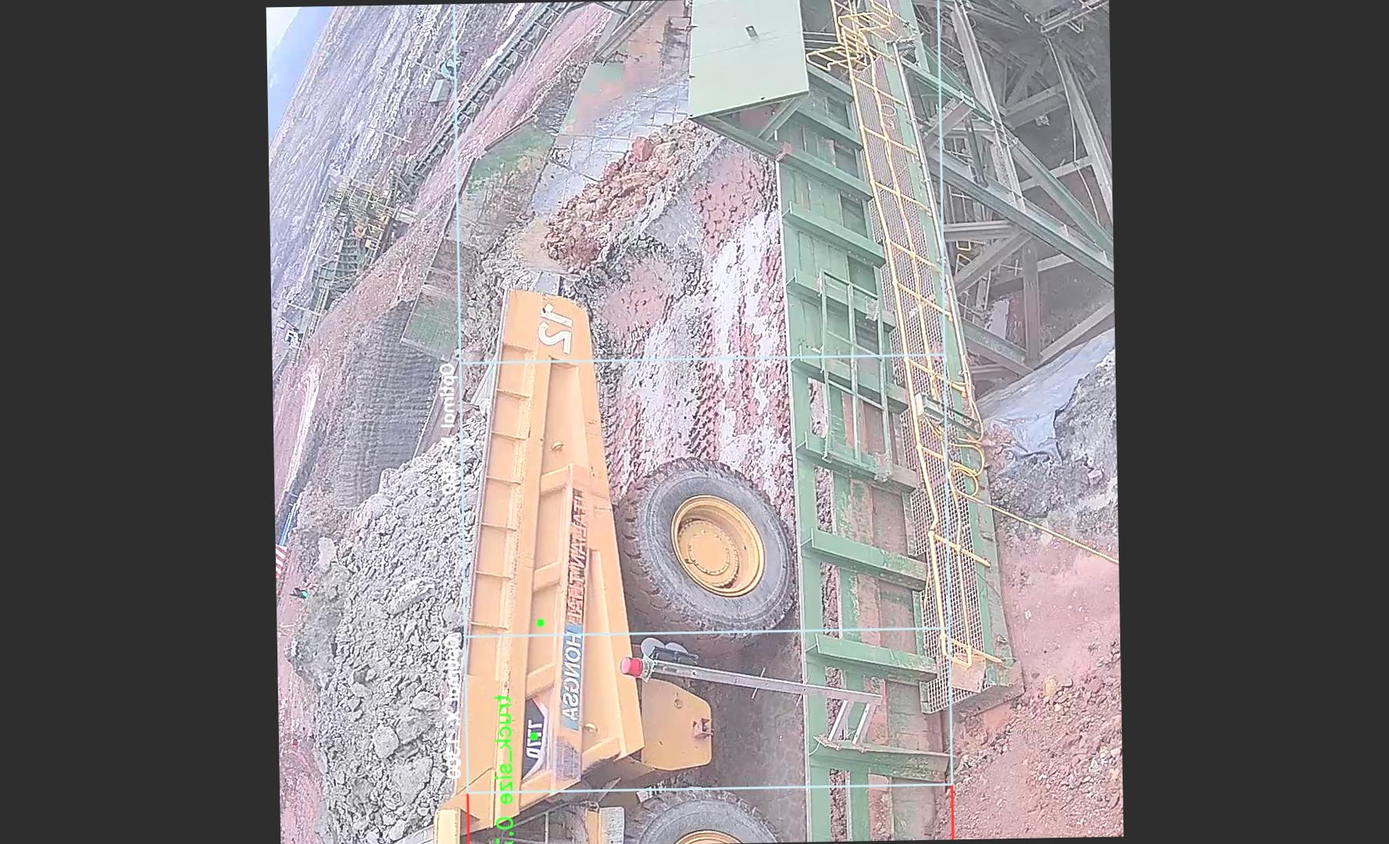company: (540, 475, 600, 744)
full_load: (289, 461, 501, 822)
mining_truck: (274, 278, 787, 844)
tail_number: (531, 299, 582, 361)
truck_size: (505, 702, 550, 772)
